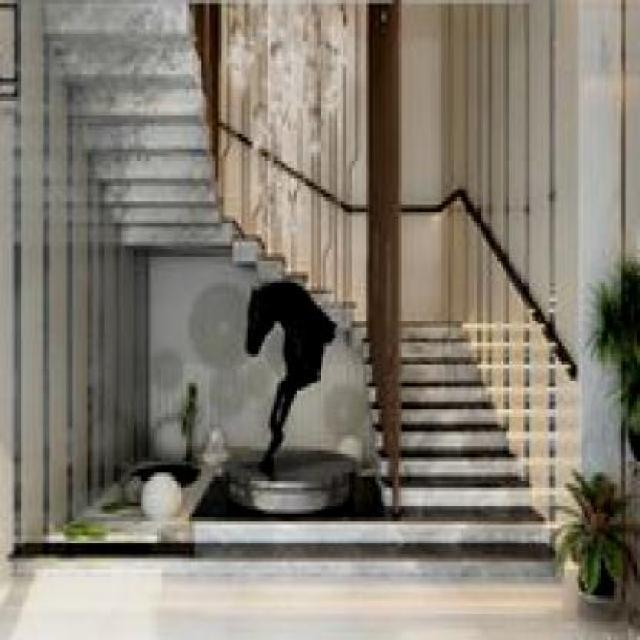stair: (368, 210, 544, 561)
